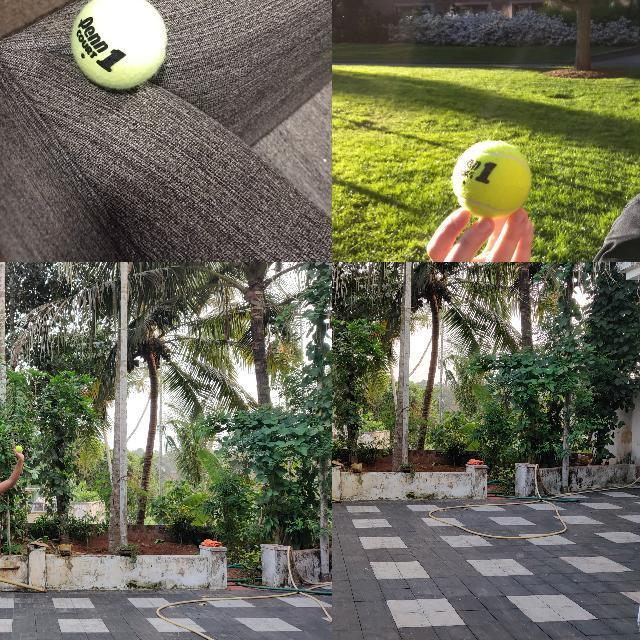tennis-ball: (69, 0, 168, 90), (450, 139, 532, 219), (16, 446, 23, 453)
